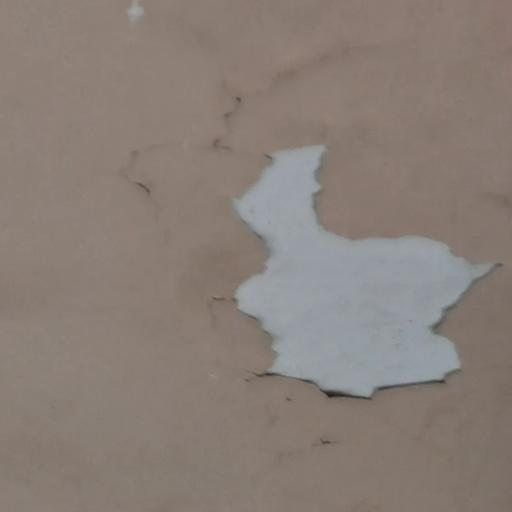peeling: (179, 110, 503, 420), (99, 0, 173, 34)
